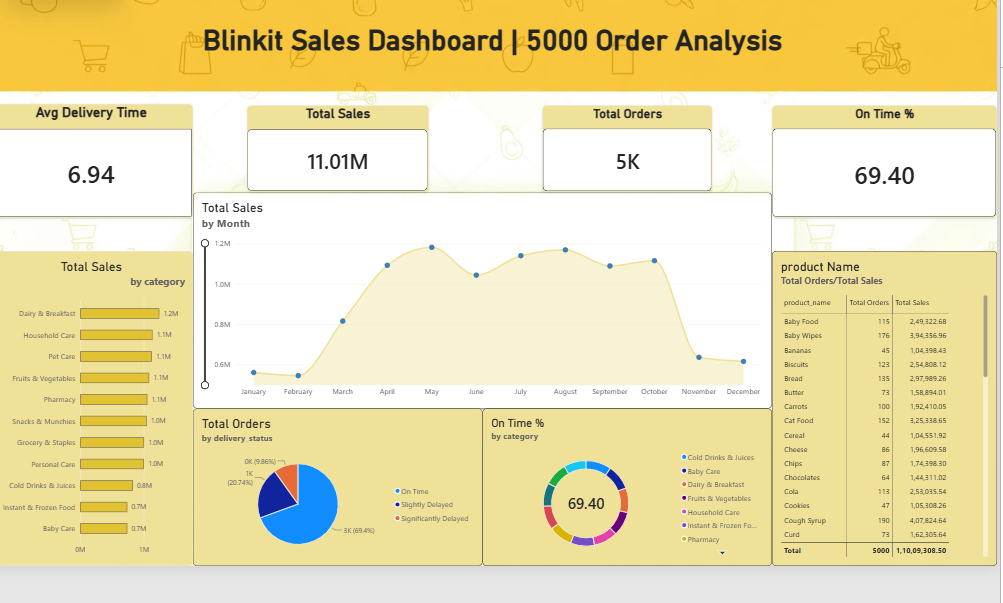

This screenshot's page, from the dashboard's own definition file:
{"tool":"powerbi","page":{"name":"Dashboard","canvas":[1920,1080],"ordinal":0},"visuals":[{"type":"cardVisual","title":"Total Sales","fields":{"Data":["measure.Total Sales","measure.Total Sales"]},"box":[490.4,204.1,345.8,164.4],"z":0},{"type":"cardVisual","title":"Total Orders","fields":{"Data":["measure.Total Orders"]},"box":[1054.5,204.1,323.2,164.4],"z":1000},{"type":"cardVisual","title":"Avg Delivery Time","fields":{"Data":["measure.Avg Delivery Times"]},"box":[0,200,388.6,217.1],"z":3000},{"type":"barChart","fields":{"Category":["blinkit_clean.category"],"Y":["measure.Total Sales"]},"box":[0,480,388.6,600],"z":4000},{"type":"lineChart","fields":{"Category":["blinkit_clean.order_date.Variation.Date Hierarchy.Month"],"Y":["measure.Total Sales"]},"box":[388.6,368.6,1102.9,411.4],"z":6000},{"type":"tableEx","title":"product Name","fields":{"Values":["blinkit_clean.product_name","measure.Total Orders","measure.Total Sales"]},"box":[1491.4,480,428.6,600],"z":7000},{"type":"textbox","title":"Blinkit Sales Dashboard | 5000 Order Analysis","box":[0,45.4,1919.1,127.6],"z":8000},{"type":"cardVisual","title":"On Time %","fields":{"Data":["measure.On Time %"]},"box":[1491.4,202.9,428.6,214.3],"z":8001},{"type":"donutChart","fields":{"Category":["blinkit_clean.category"],"Y":["measure.On Time %"]},"box":[940,780,551,300],"z":8002},{"type":"pieChart","fields":{"Category":["blinkit_clean.delivery_status"],"Y":["measure.Total Orders"]},"box":[388.6,780,551.4,300],"z":8003}]}

Visuals, with their boxes in screenshot pixels (x1, y1, x2, y2):
"Total Sales" cardVisual: <region>255, 108, 433, 192</region>
"Total Orders" cardVisual: <region>546, 108, 712, 192</region>
"Avg Delivery Time" cardVisual: <region>3, 106, 203, 217</region>
barChart - blinkit_clean.category x measure.Total Sales: <region>3, 250, 203, 559</region>
lineChart - blinkit_clean.order_date.Variation.Date Hierarchy.Month x measure.Total Sales: <region>203, 193, 771, 404</region>
"product Name" tableEx: <region>771, 250, 992, 559</region>
"Blinkit Sales Dashboard | 5000 Order Analysis" textbox: <region>3, 26, 991, 92</region>
"On Time %" cardVisual: <region>771, 107, 992, 218</region>
donutChart - blinkit_clean.category x measure.On Time %: <region>487, 404, 771, 559</region>
pieChart - blinkit_clean.delivery_status x measure.Total Orders: <region>203, 404, 487, 559</region>
